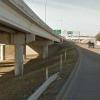Bridge: (14, 0, 63, 64)
